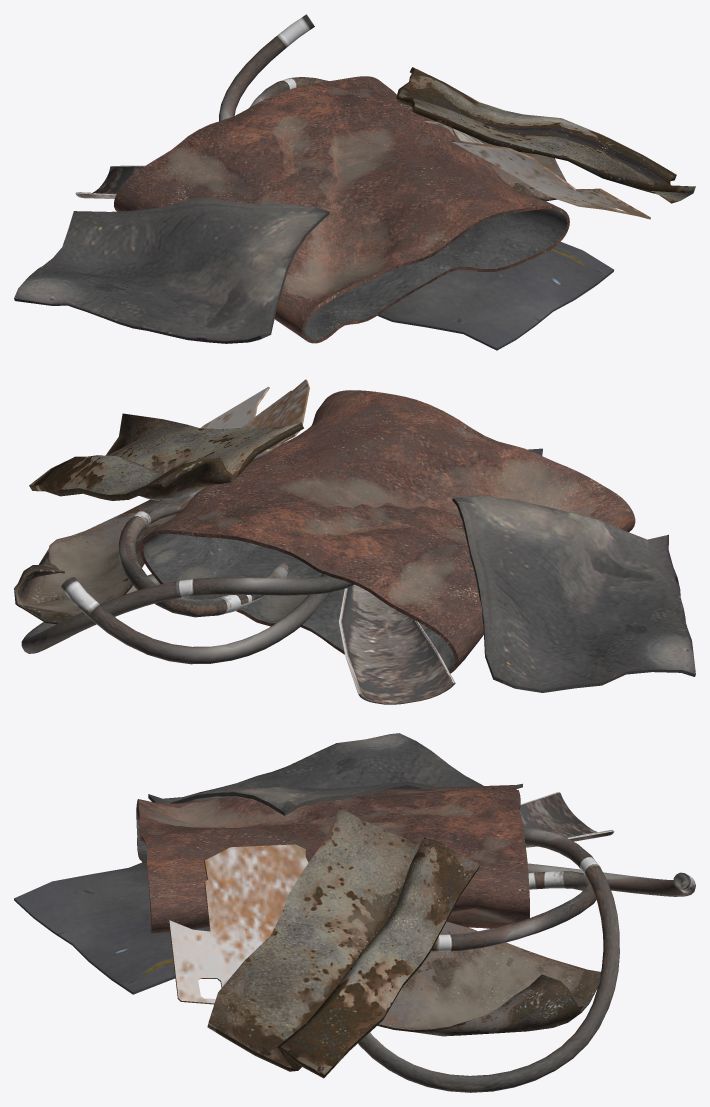
The model's file is MOD_Junkparts_06.fbx.
3 views of the same model, one above another, from view 1: azimuth 30°, elevation 25°; view 2: azimuth 150°, elevation 25°; view 3: azimuth 270°, elevation 25° (orthographic). The views are drawn at different scales.
Visible parts, largest first — view 1: MOD_Junkparts_06; view 2: MOD_Junkparts_06; view 3: MOD_Junkparts_06.
Boxes of the visible parts, x1,y1,x2,y2 form: MOD_Junkparts_06: [14, 14, 695, 350]; MOD_Junkparts_06: [14, 379, 695, 704]; MOD_Junkparts_06: [14, 733, 695, 1092].
Bounding box in the file's own units: 301 × 83.78 × 259.
Materials: 2 (2 with a texture image).
